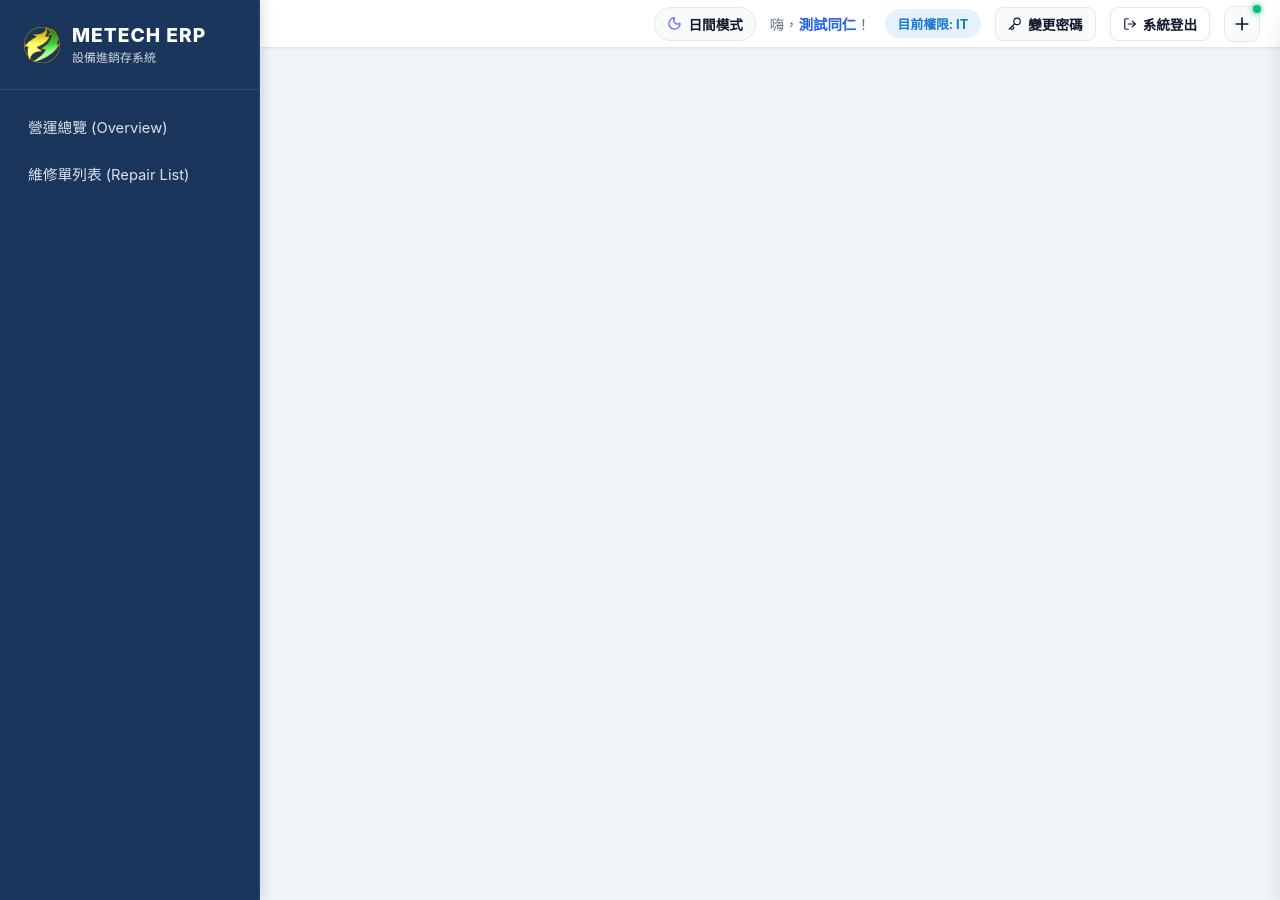
Scenario: 使用者變更密碼功能 (Change Password) 測試 › 能正確開啟變更密碼彈窗
Click the button "變更密碼".
click(1046, 24)  # box [995,6,1096,40]
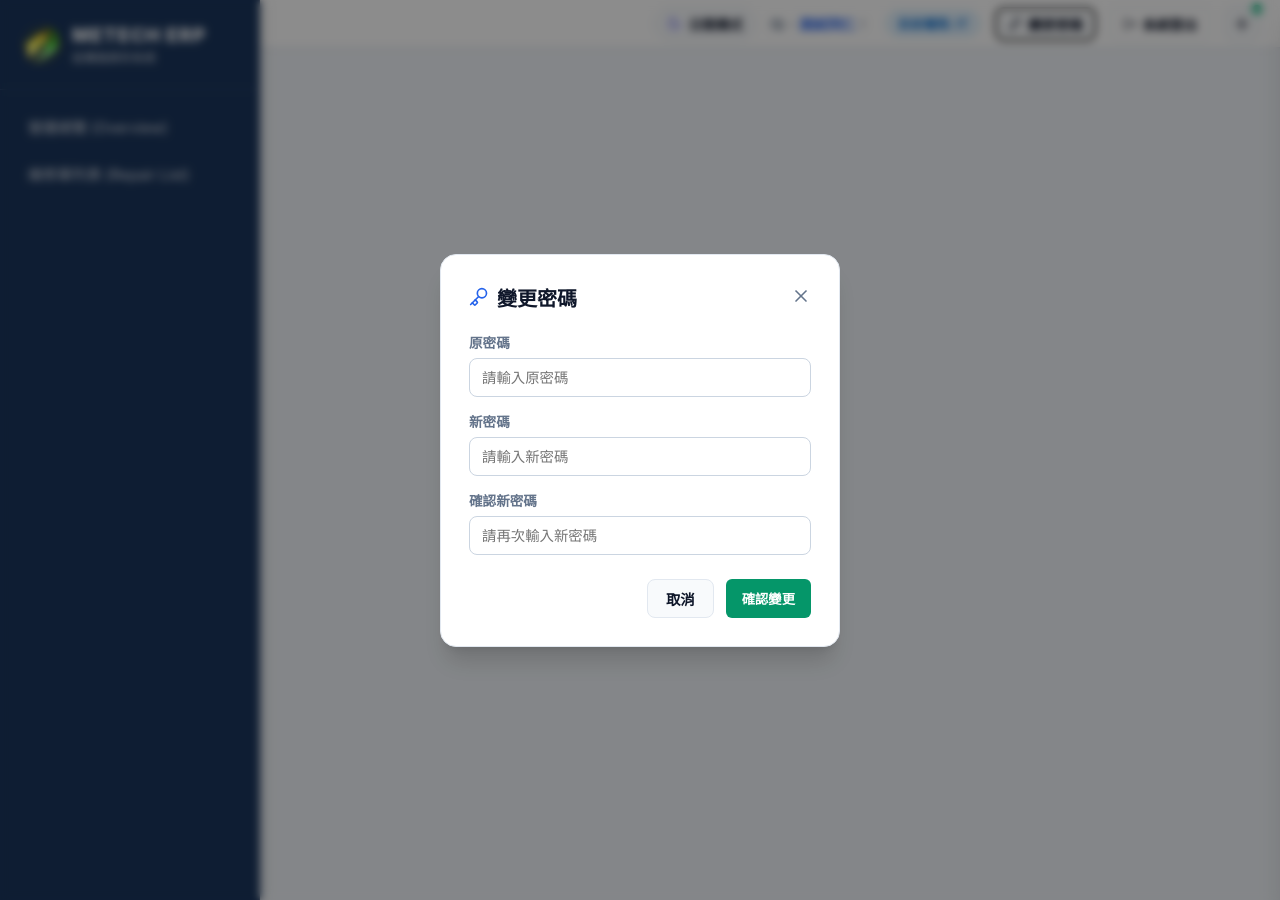
expect the password field with placeholder "請輸入原密碼" is shown: met, box [469,358,811,396]
expect the password field with placeholder "請輸入新密碼" is shown: met, box [469,436,811,476]
expect the password field with placeholder "請再次輸入新密碼" is shown: met, box [469,516,811,554]
